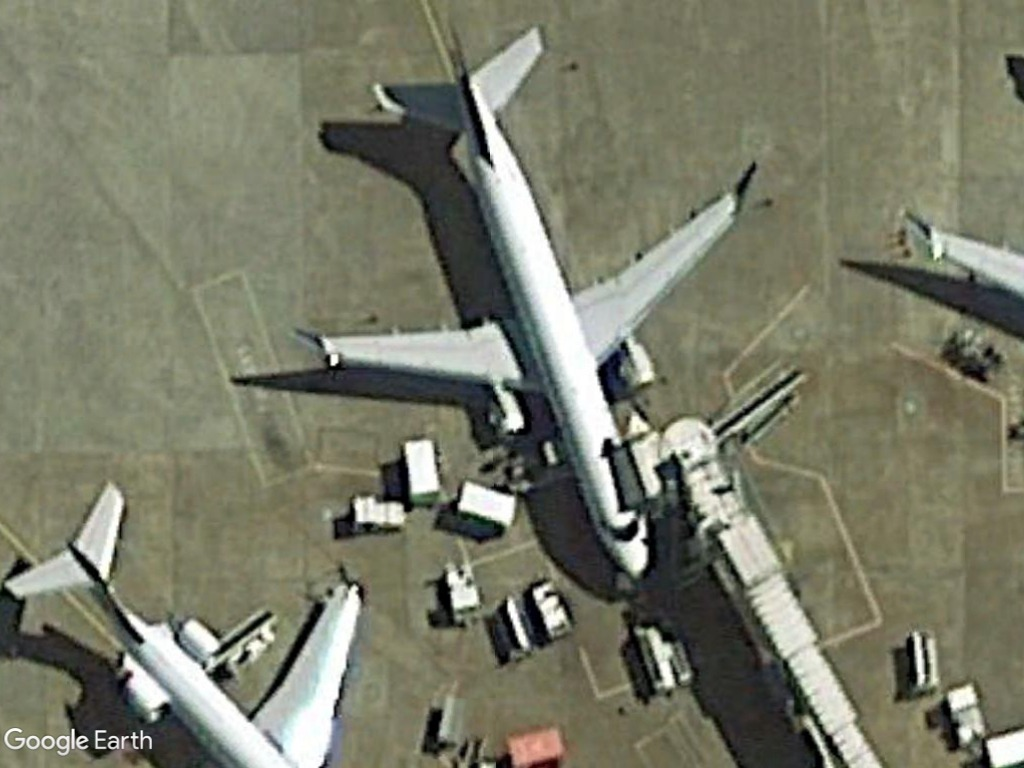airliner: (286, 18, 760, 584)
